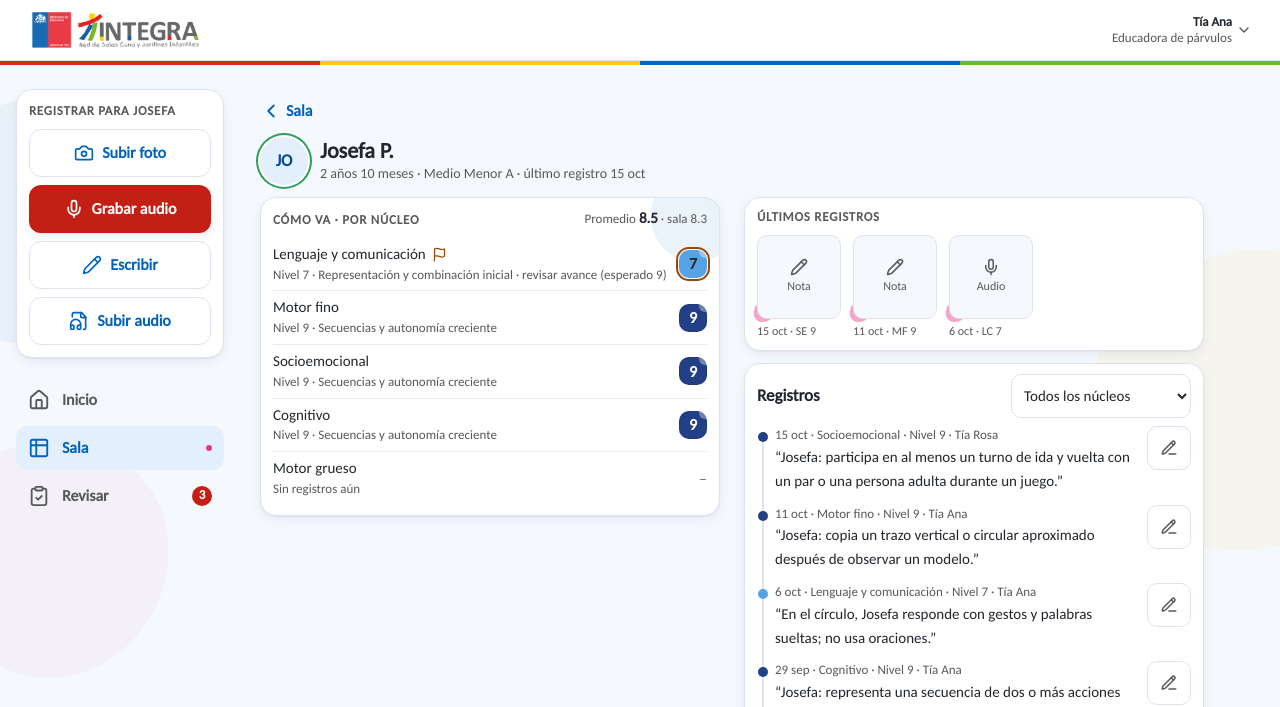
Scenario: Ficha › abre el detalle de un núcleo con el nivel actual y el siguiente
Click the button that starts with "Lenguaje y comunicación" at (490, 264), box [273,238,707,290]
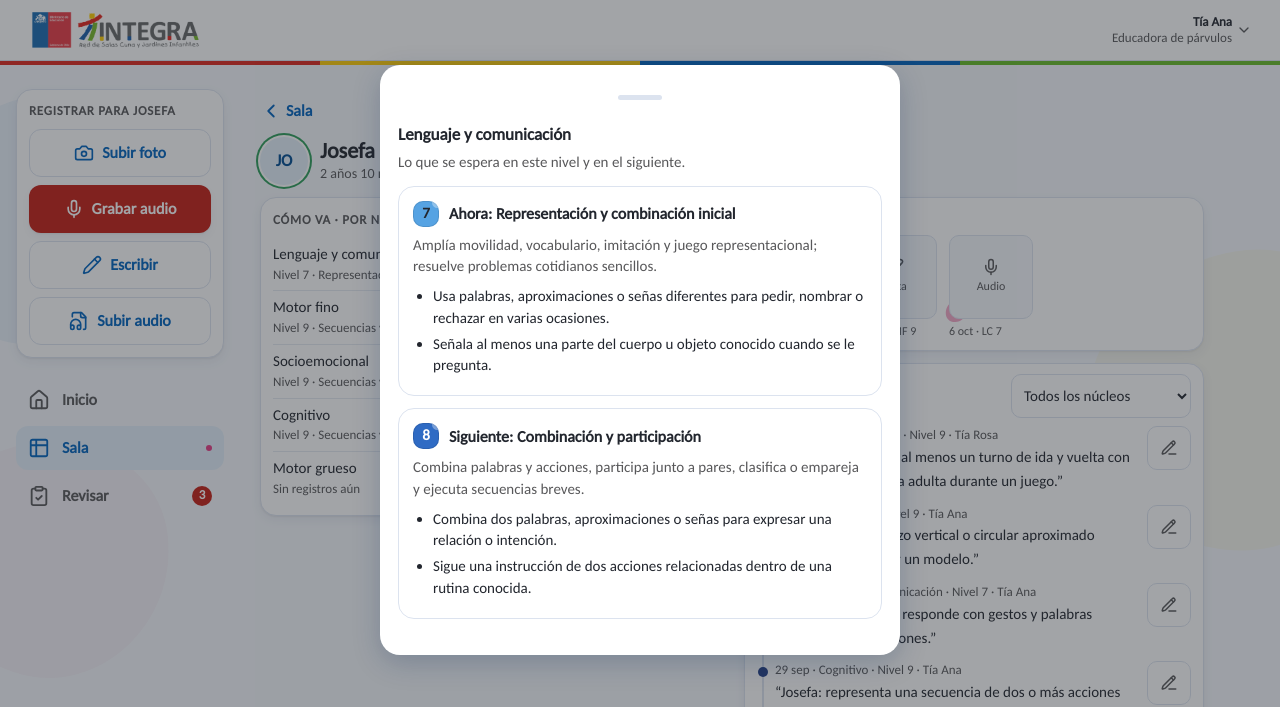
expect the text "Ahora: Representación y combinación inicial" is shown: met, box [449,202,736,225]
expect the text "Siguiente: Combinación y participación" is shown: met, box [449,425,701,448]
